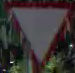Give way: (8, 5, 72, 66)
